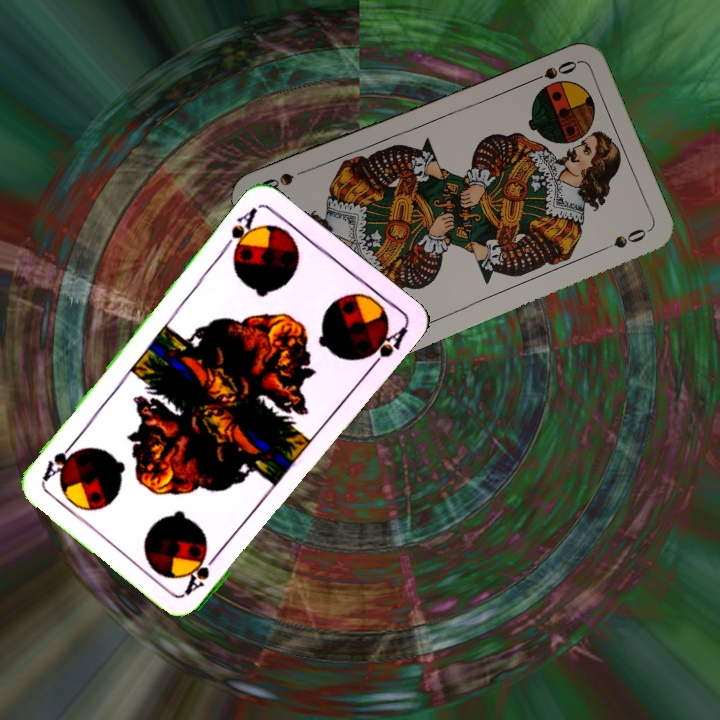SA: (218, 203, 262, 260), (180, 546, 223, 597)
SO: (523, 56, 580, 87)
